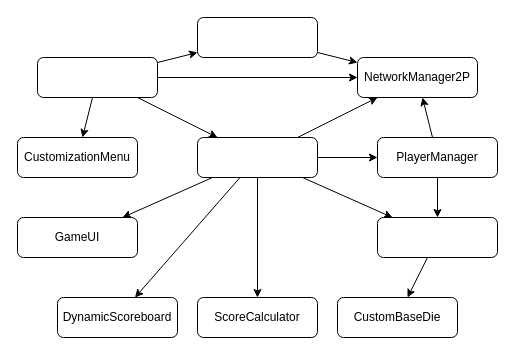
The diagram is 515 pixels wide and 355 high, and some of its shapes have lost their labels. The box of each missing label's shape, as (x1, y1, x2, y2) in pixels:
DynamicDice Container: (376, 216, 498, 258)
GameManager: (196, 136, 318, 178)
GameSettings: (196, 16, 318, 58)
MultiGameManager: (36, 56, 158, 98)
